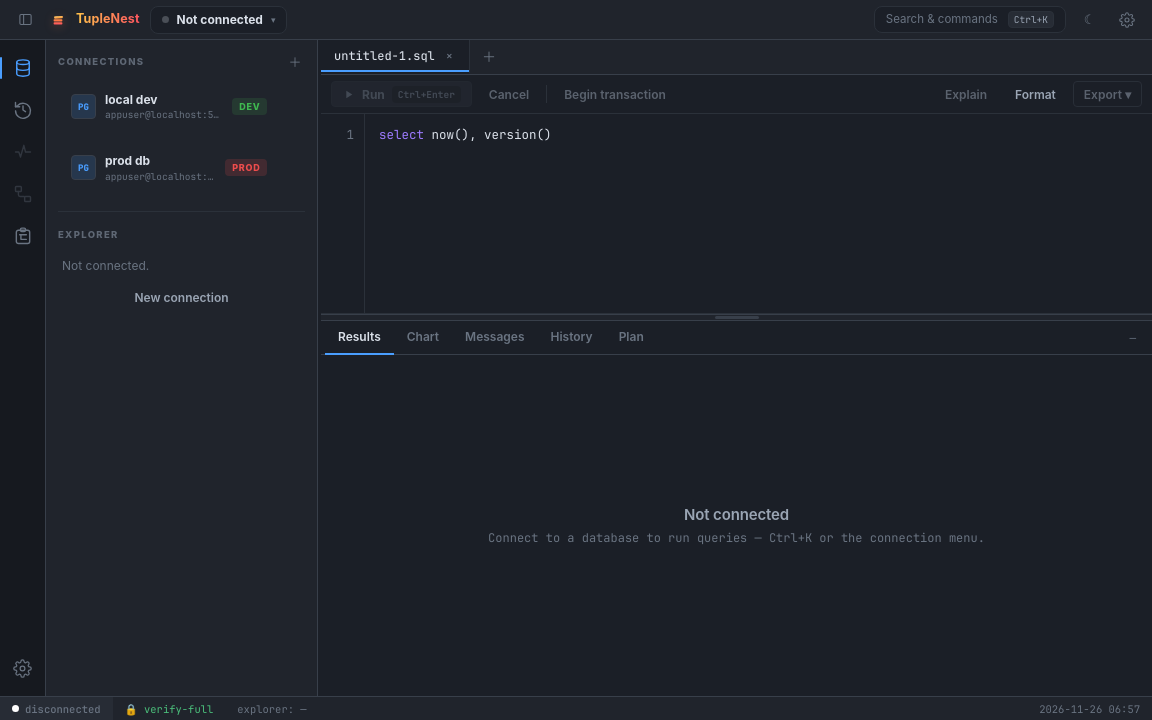
Scenario: App — global search › opens the details for the hit you pick
Check: the text "local dev" is shown, box [105,91,158,108]
Type keys "{Meta>}k{/Meta}"
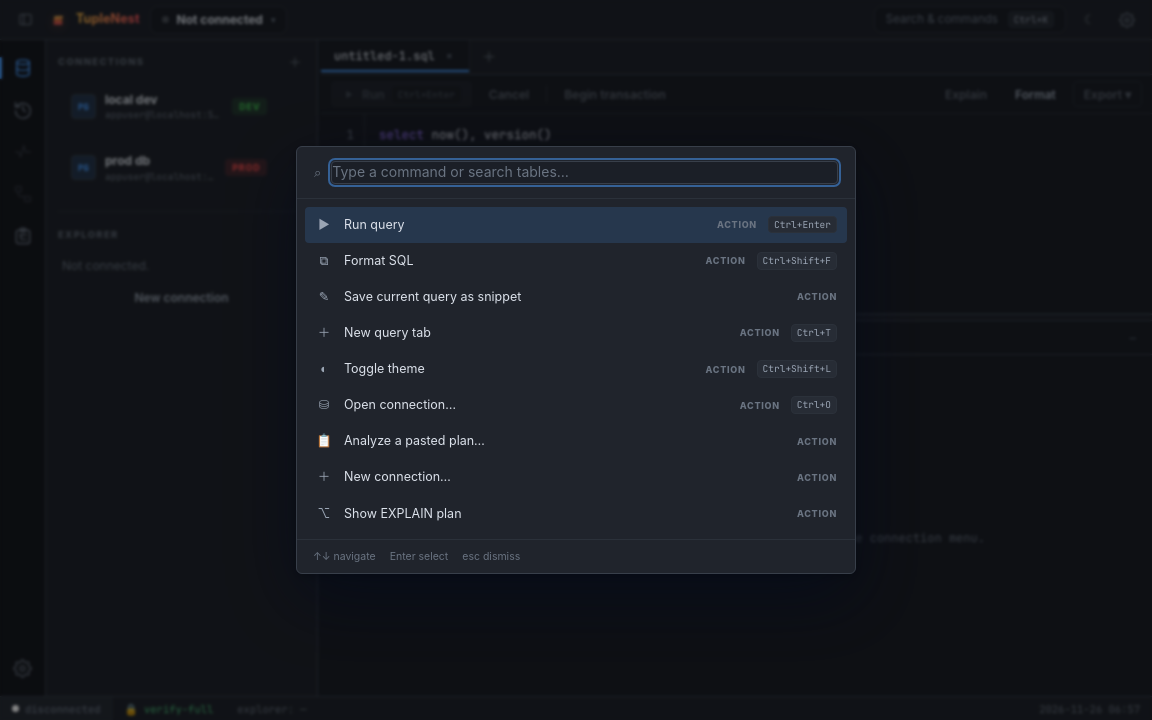
Type "Connect to local dev" into the field with placeholder "Type a command or search tables…" at point(585, 172), box [331,161,838,184]
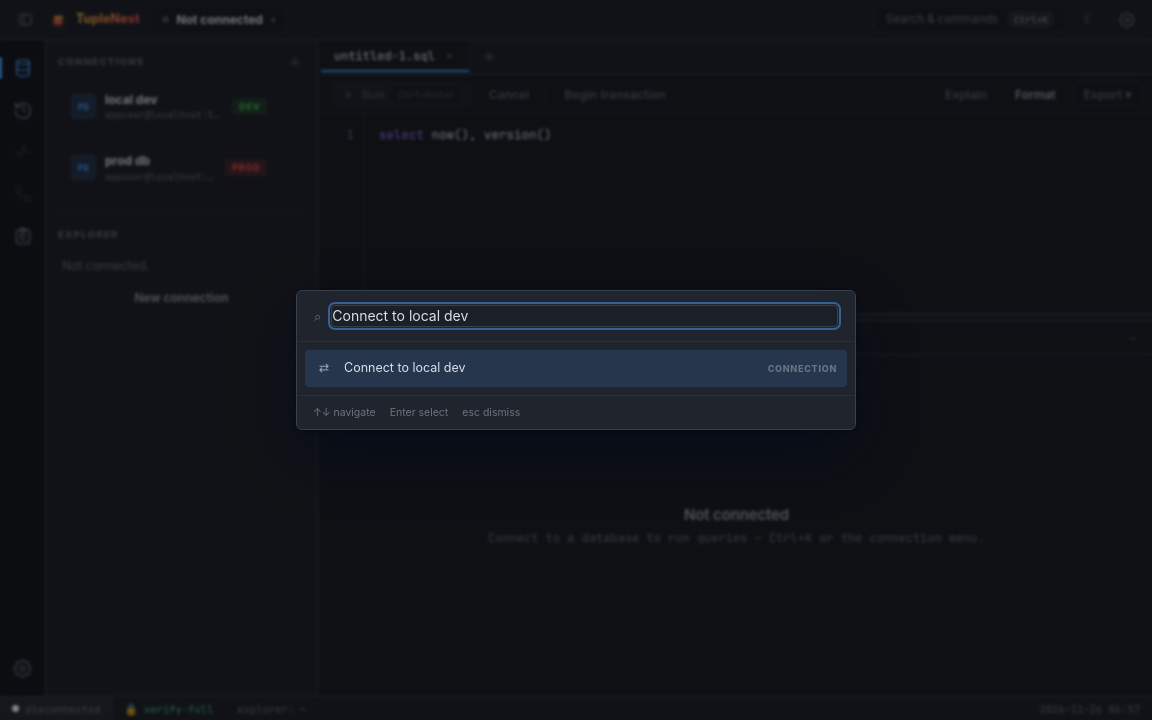
Press Enter
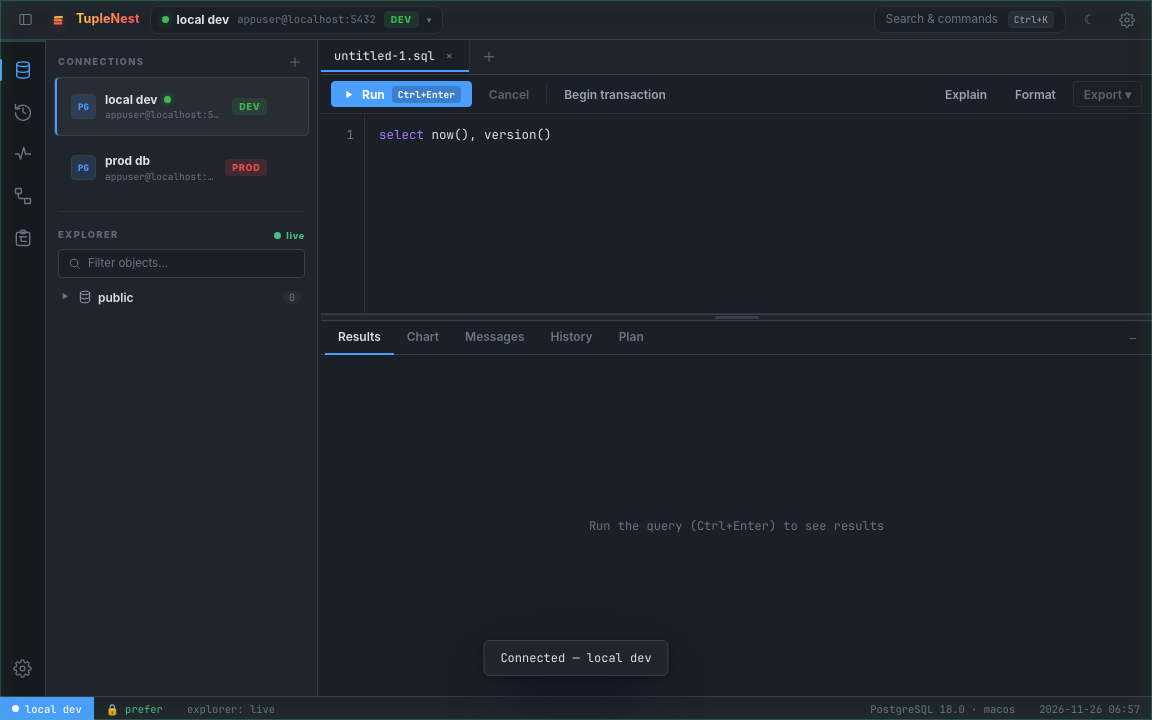
Type keys "{Meta>}p{/Meta}"
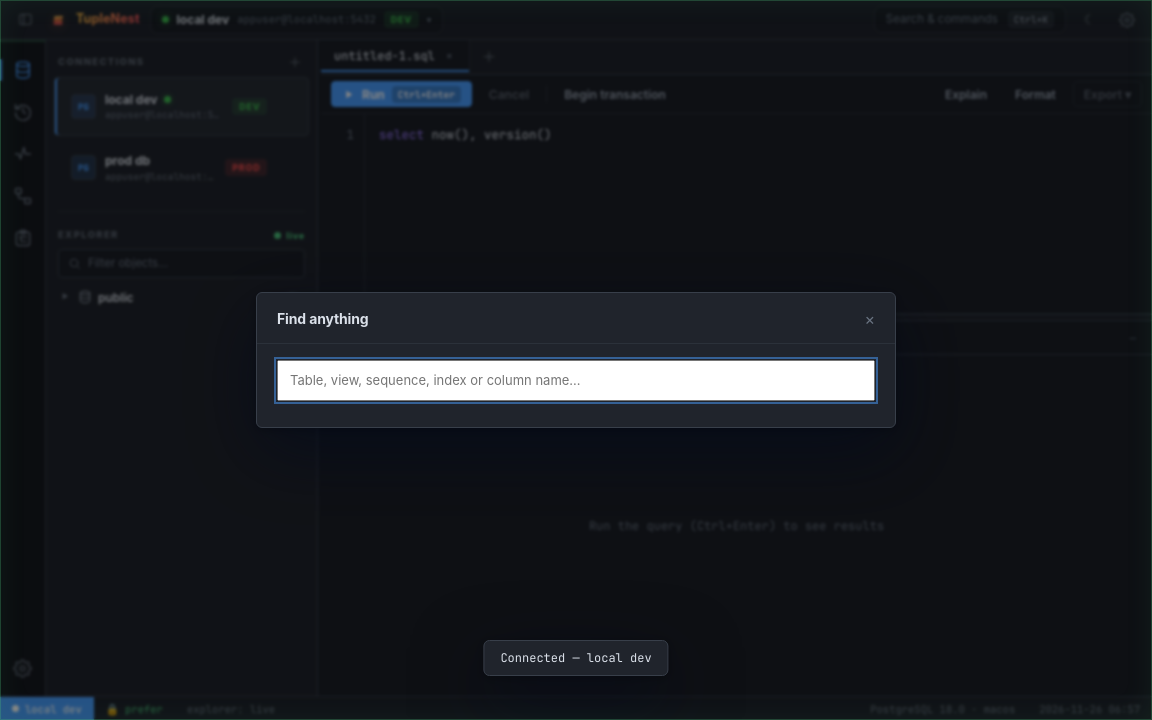
Type "users" into the field with placeholder "Table, view, sequence, index or column name…" at point(576, 381), box [277,360,875,401]
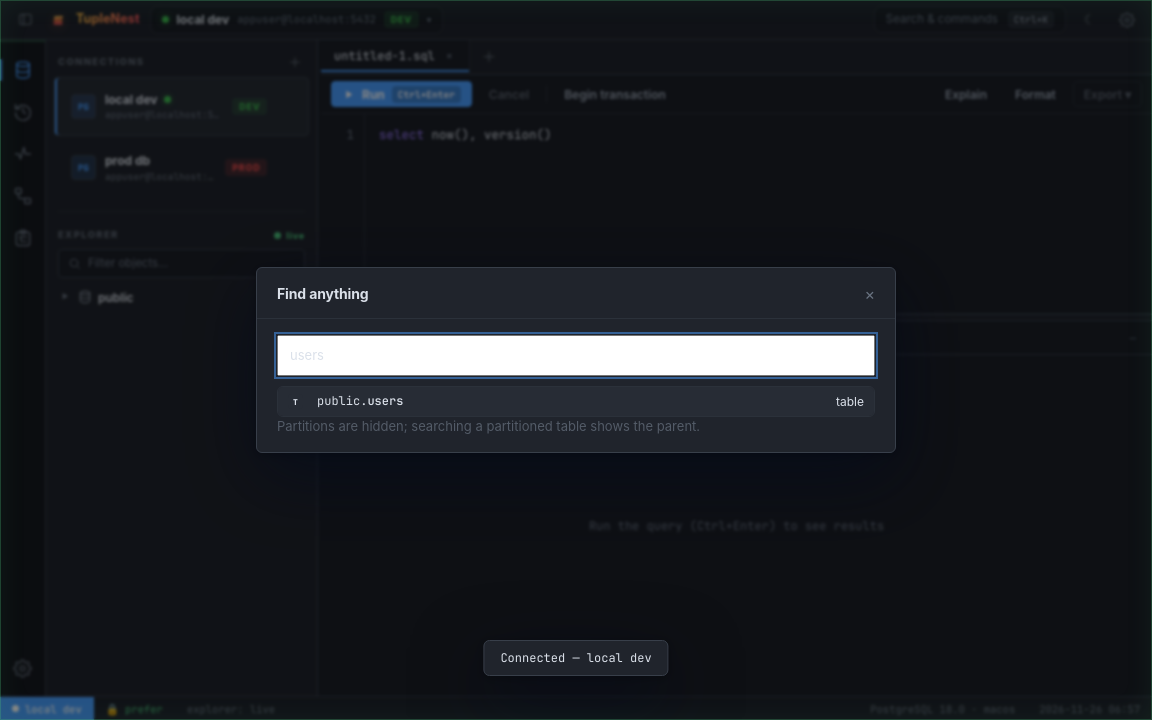
Click the element with class "hit" at point(576, 402), box [278,387,874,416]
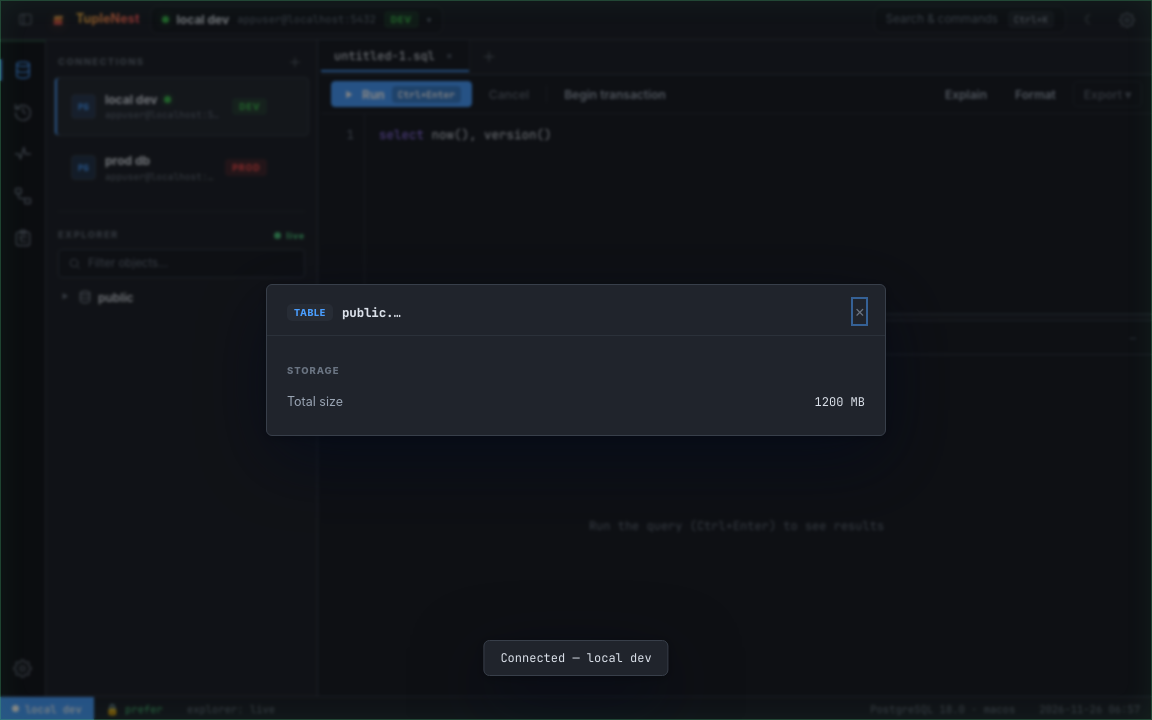
Check: the text "1200 MB" is shown, box [815,394,865,410]
